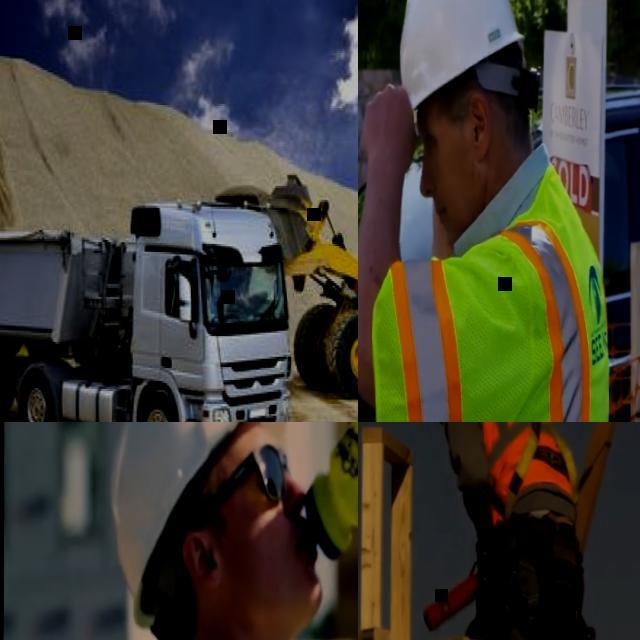Helmet: (116, 421, 260, 638), (375, 0, 555, 110)
Robbery: (355, 0, 640, 421), (102, 403, 368, 640), (427, 410, 632, 640)
